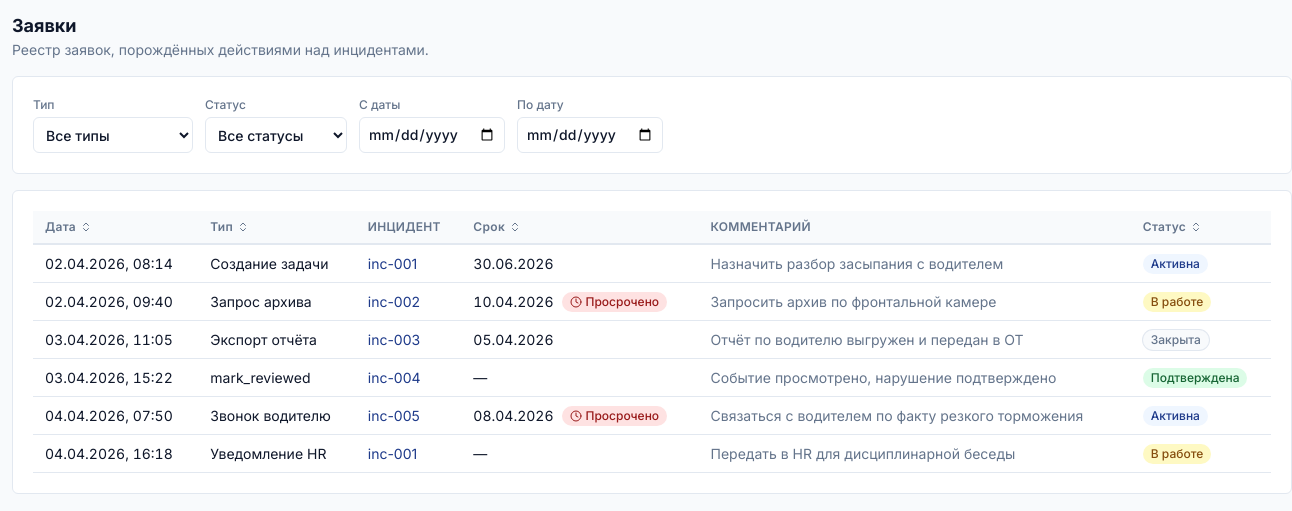
Test: f8 · Tickets › фильтр по статусу «Закрыта» оставляет только закрытые заявки
The width and height of the screenshot is (1292, 511).
Check: the text "Назначить разбор засыпания с водителем" is shown, box left=710, top=254, right=1003, bottom=272
Select "Закрыта" in the dropdown labelled "Статус" at (276, 135), box left=205, top=117, right=347, bottom=153
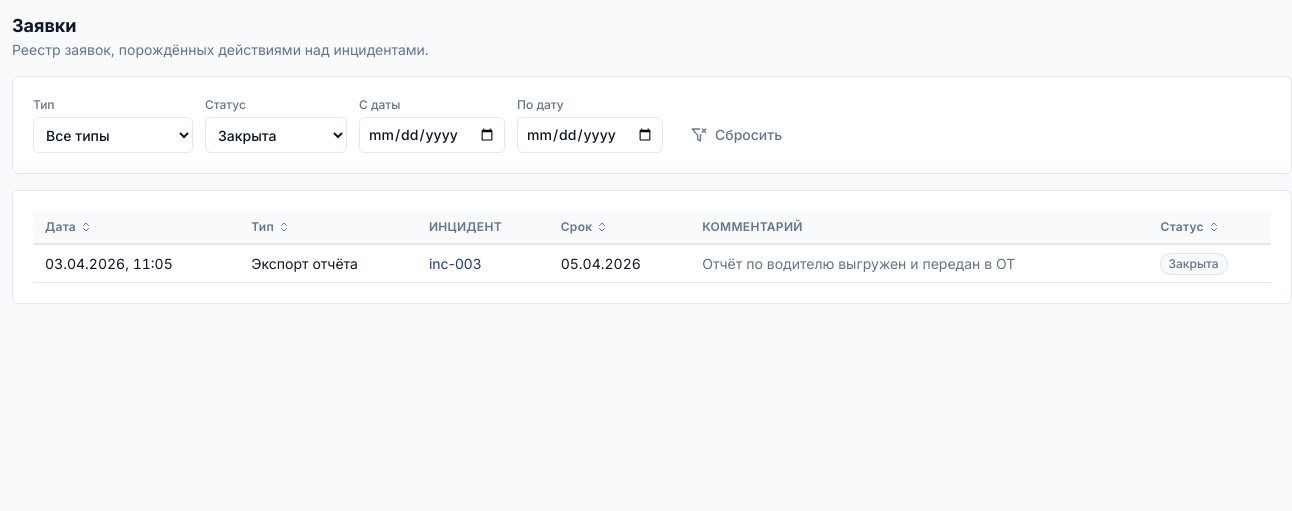
Check: the text "Закрыта" is shown, box left=1160, top=254, right=1227, bottom=274
Check: the text "Активна" is gone
Check: the text "Просрочено" is gone
